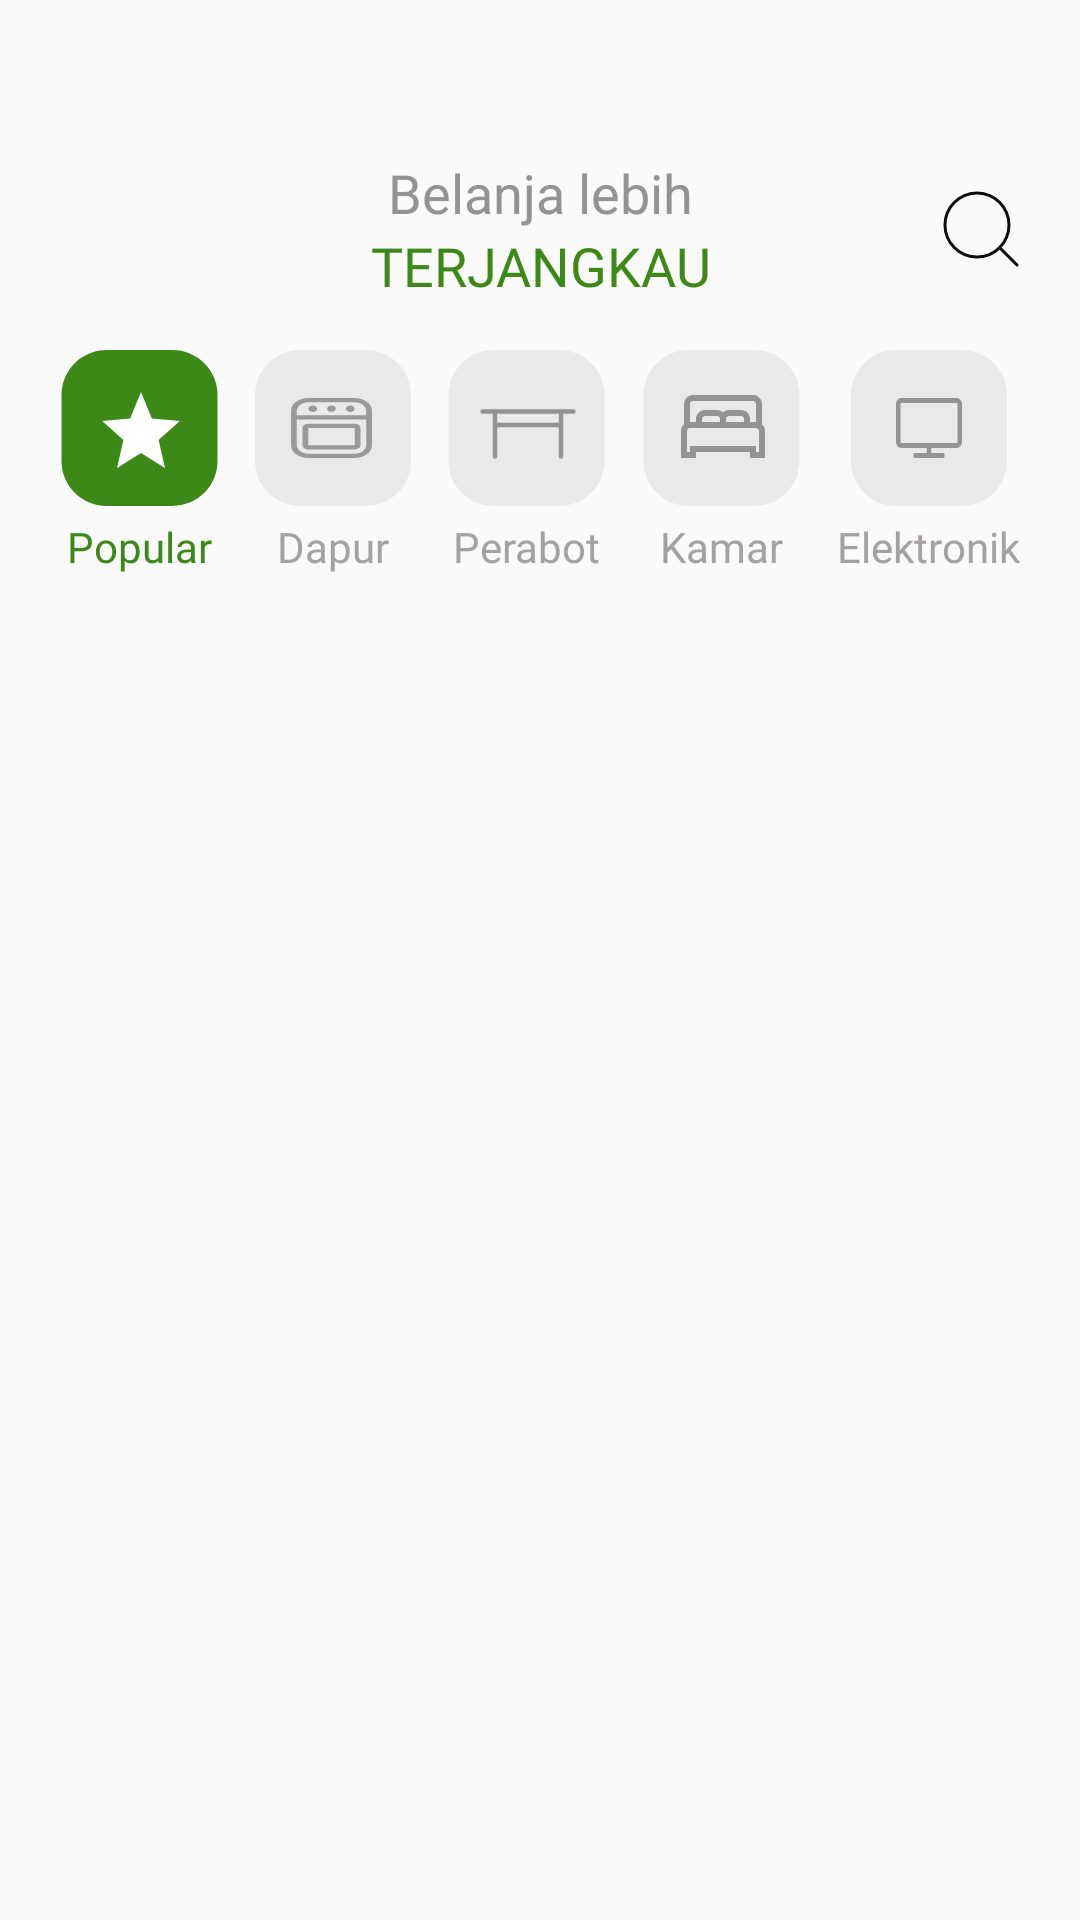

Named icons in this screenshot (1080 x 1920) and their centers, [x,y]:
search: [981,229]
